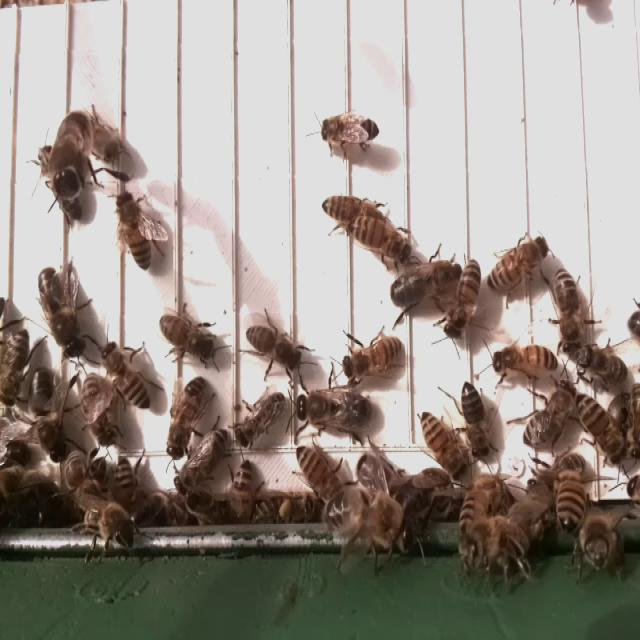Drone: (35, 260, 88, 364), (28, 362, 71, 471), (290, 382, 373, 438), (386, 257, 463, 312)
Worker: (522, 376, 579, 455), (574, 390, 630, 470), (113, 187, 157, 276), (487, 231, 550, 293), (176, 424, 230, 495), (165, 374, 208, 463), (442, 257, 485, 342), (346, 212, 412, 267), (102, 339, 151, 413), (157, 306, 216, 365), (233, 393, 289, 452), (338, 334, 405, 383), (418, 410, 466, 478), (78, 373, 119, 451), (245, 319, 302, 373), (458, 378, 493, 461), (491, 339, 559, 380), (296, 444, 344, 502), (553, 267, 583, 358), (317, 107, 381, 149), (0, 326, 33, 406), (318, 189, 384, 226)
